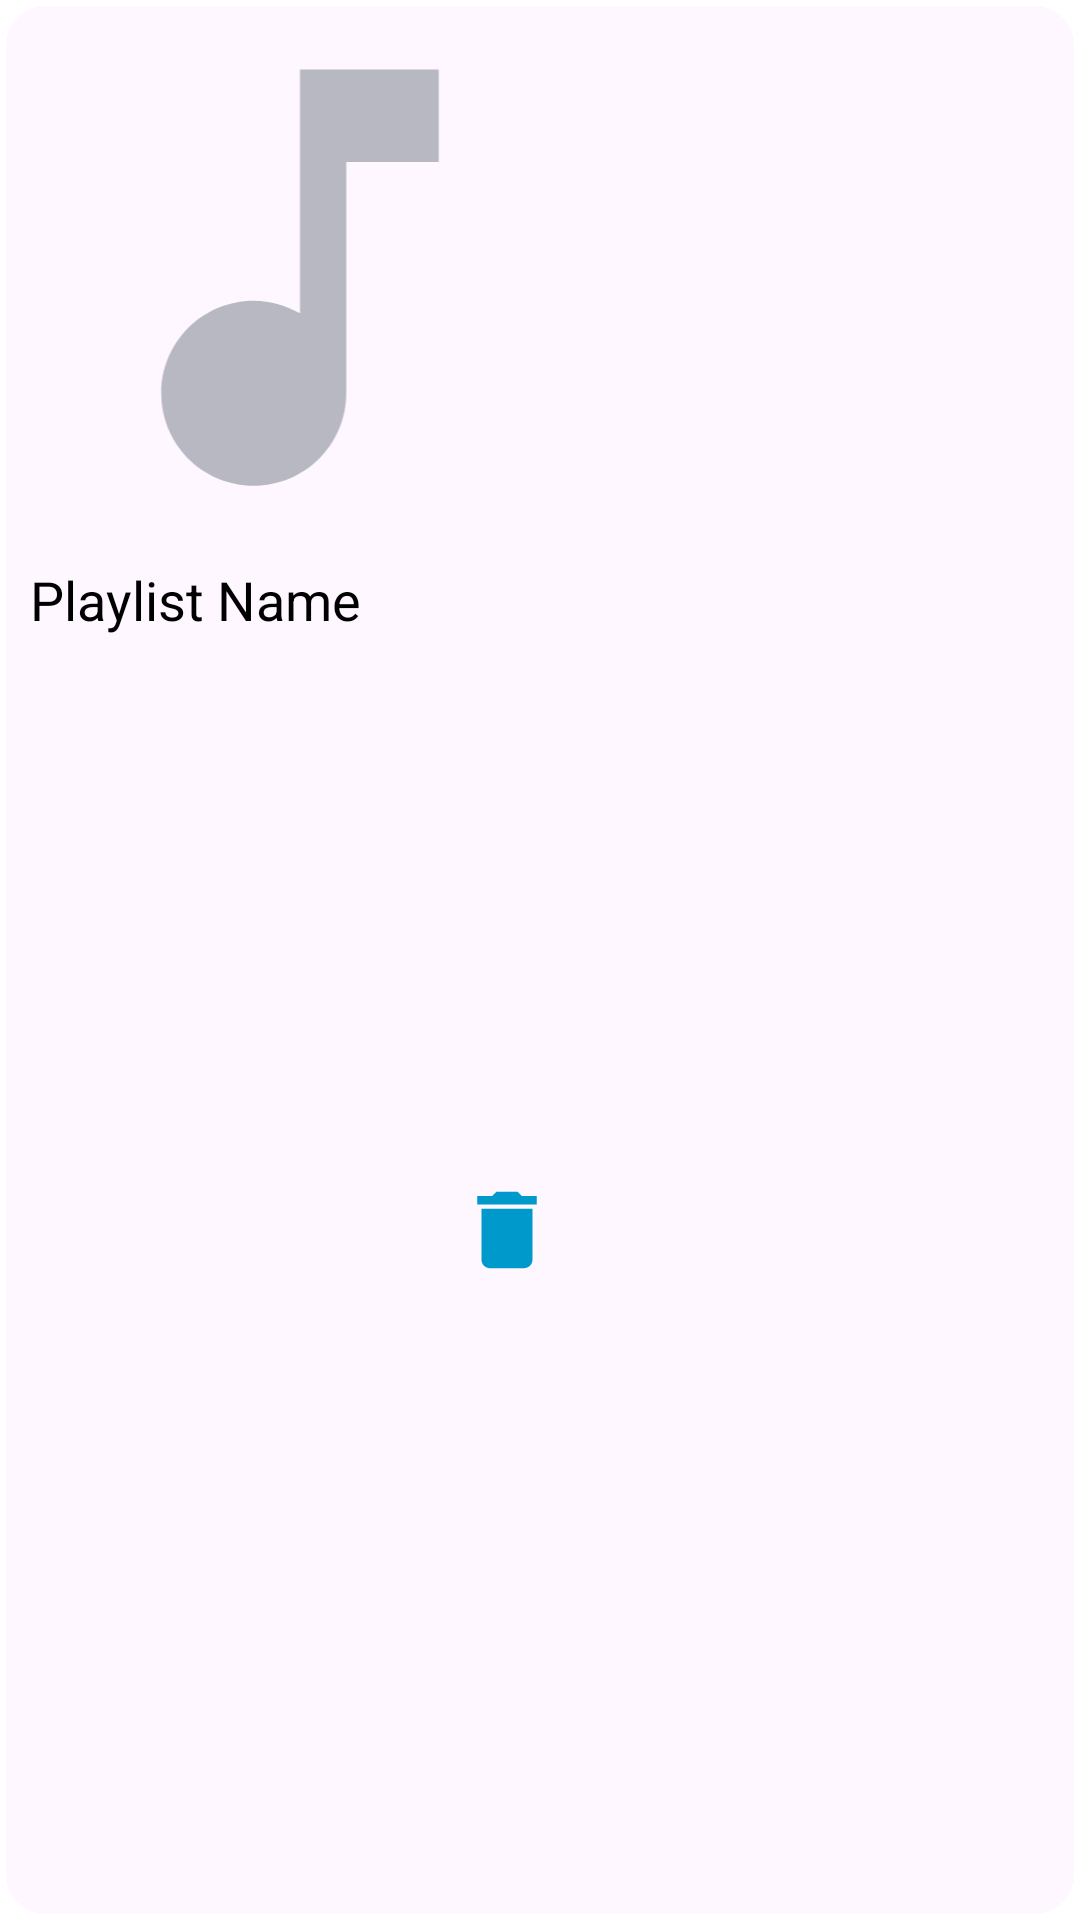

Where icons sit on this 1080w x 1920h app screen, as rect(x1, y1, x2, y2):
Playlist Delete: rect(477, 1191, 537, 1269)
